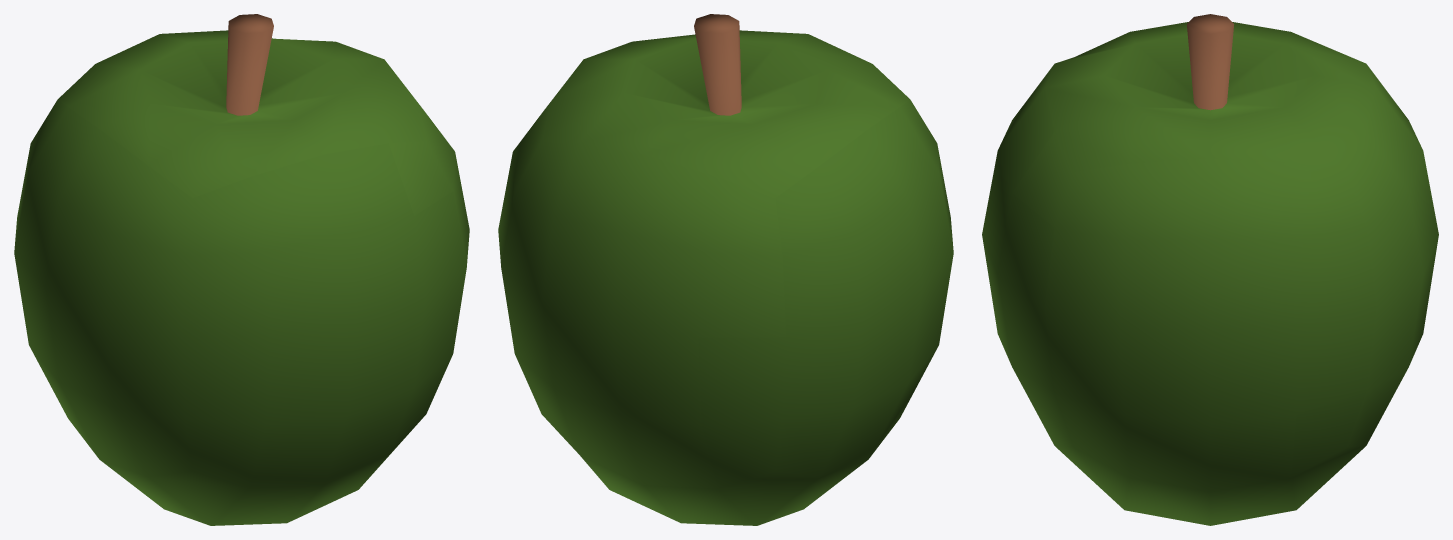
Rendered from Apple_Green.glb.
3 views of the same model, side by side, from view 1: azimuth 30°, elevation 25°; view 2: azimuth 150°, elevation 25°; view 3: azimuth 270°, elevation 25° (orthographic).
Parts seen in each view (by area): view 1: Apple_Green; view 2: Apple_Green; view 3: Apple_Green.
Part boxes in pixels (bbox=[...]): Apple_Green: bbox=[14, 14, 469, 525]; Apple_Green: bbox=[498, 14, 953, 525]; Apple_Green: bbox=[982, 14, 1438, 525].
Size of the model in its own units: 0.084 by 0.0949 by 0.084.
Materials: 1 (1 with a texture image).
